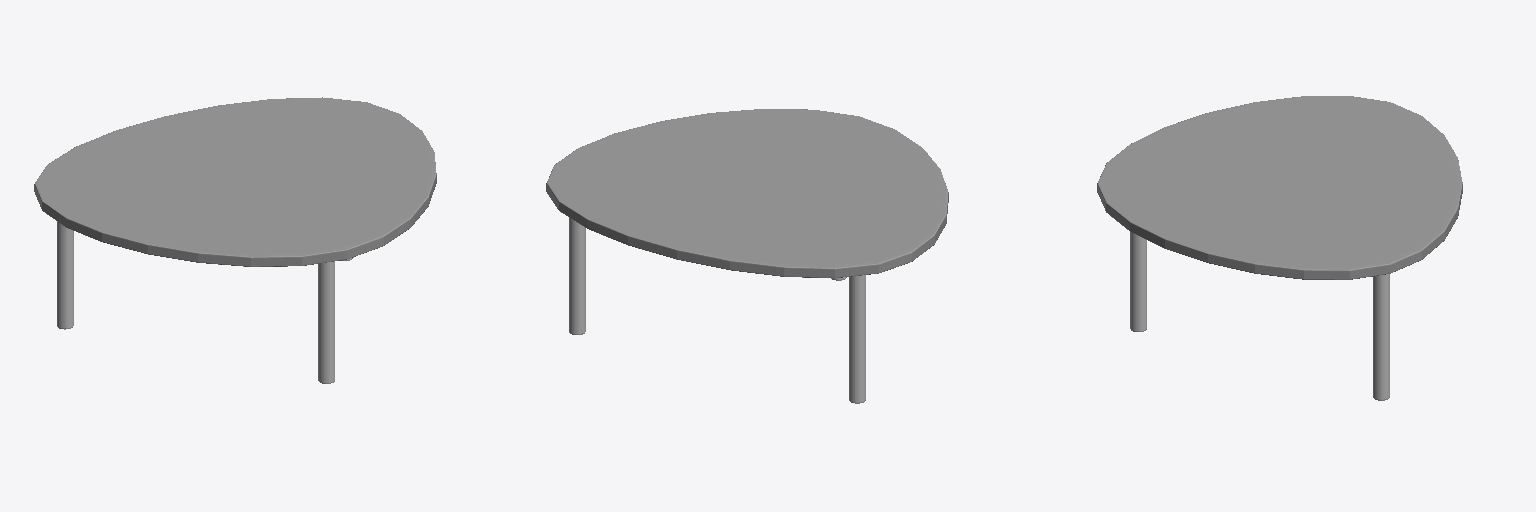
File: tablev1.obj
3 renders of one model, left to right at view 1: azimuth 30°, elevation 25°; view 2: azimuth 150°, elevation 25°; view 3: azimuth 270°, elevation 25°, orthographic.
Parts seen in each view (by area): view 1: Cube, Cylinder, Cylinder.002; view 2: Cube, Cylinder.002, Cylinder.001; view 3: Cube, Cylinder.001, Cylinder.
Part boxes in pixels (x1,y1,x2,y2): Cube: (34, 97, 436, 266); Cylinder: (318, 261, 334, 383); Cylinder.002: (57, 222, 73, 329); Cube: (546, 109, 948, 277); Cylinder.002: (849, 275, 865, 403); Cylinder.001: (569, 218, 585, 334); Cube: (1097, 96, 1462, 279); Cylinder.001: (1373, 274, 1389, 400); Cylinder: (1130, 232, 1146, 331).
Size of the model in its own units: 3.58 by 1.4 by 3.16.